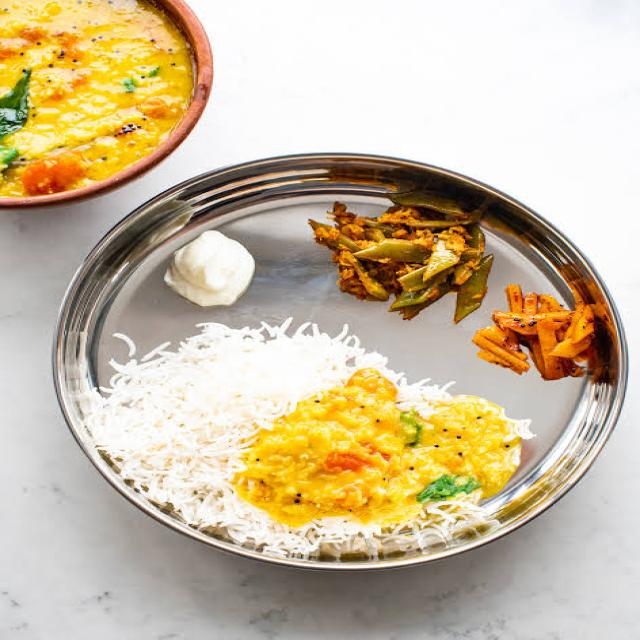CURD: (157, 214, 249, 324)
PICKLE: (458, 251, 609, 380)
RICE: (32, 302, 482, 559)
SAMBAR: (2, 3, 208, 196)
VEGGIES: (300, 185, 481, 310)
